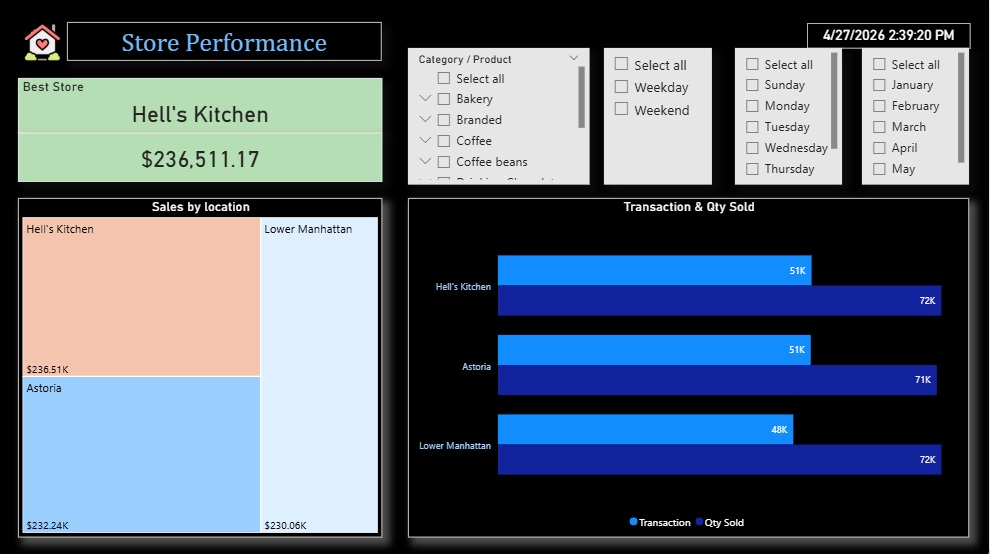

This screenshot's page, from the dashboard's own definition file:
{"tool":"powerbi","page":{"name":"Store Performance","canvas":[1280,720],"ordinal":3},"visuals":[{"type":"shape","box":[90.3,32.7,405.8,49.7],"z":0},{"type":"image","box":[27.5,33,63.3,49.5],"z":1000},{"type":"card","fields":{"Values":["Calender.Run Time"]},"box":[1044.6,33,210.6,33],"z":2000},{"type":"treemap","title":"Sales by location ","fields":{"Group":["Stores.store_location"],"Values":["Sales.Total Revenue"]},"box":[27.4,259.2,470,437.8],"z":3000},{"type":"card","title":"Best Store","fields":{"Values":["Min(Stores.store_location)"]},"box":[27.5,104.7,470,70.7],"z":4000},{"type":"card","fields":{"Values":["Sales.Total Revenue"]},"box":[27.4,175.7,470,63.4],"z":5000},{"type":"clusteredBarChart","title":"Transaction & Qty Sold ","fields":{"Category":["Stores.store_location"],"Y":["Sales.Total Transaction","Sales.Total Quantity Sold"]},"box":[529.9,258.8,724,437.7],"z":6000},{"type":"slicer","fields":{"Values":["Calender.Month Name"]},"box":[1116.2,66.1,137.6,176.2],"z":7000},{"type":"slicer","fields":{"Values":["Category.product_category","Product.product_type"]},"box":[529.9,66.1,234,176.2],"z":8000},{"type":"slicer","fields":{"Values":["Calender.Day"]},"box":[952.4,66.1,137.6,176.2],"z":9000},{"type":"slicer","fields":{"Values":["Calender.Week type"]},"box":[783.1,66.1,139,176.2],"z":10000}]}

Visuals, with their boxes in screenshot pixels (x1, y1, x2, y2), scaled from the page's 1280x720 canvas onto the 990x554 screenshot:
shape: [x1=70, y1=25, x2=384, y2=63]
image: [x1=21, y1=25, x2=70, y2=63]
card - Calender.Run Time: [x1=808, y1=25, x2=971, y2=51]
"Sales by location " treemap: [x1=21, y1=199, x2=385, y2=536]
"Best Store" card: [x1=21, y1=81, x2=385, y2=135]
card - Sales.Total Revenue: [x1=21, y1=135, x2=385, y2=184]
"Transaction & Qty Sold " clusteredBarChart: [x1=410, y1=199, x2=970, y2=536]
slicer - Calender.Month Name: [x1=863, y1=51, x2=970, y2=186]
slicer - Category.product_category x Product.product_type: [x1=410, y1=51, x2=591, y2=186]
slicer - Calender.Day: [x1=737, y1=51, x2=843, y2=186]
slicer - Calender.Week type: [x1=606, y1=51, x2=713, y2=186]
